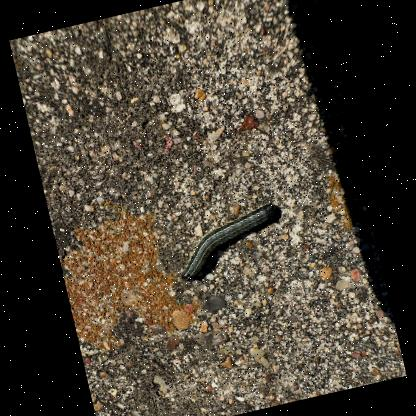Fall Armyworm Larvae: (166, 197, 290, 286)
